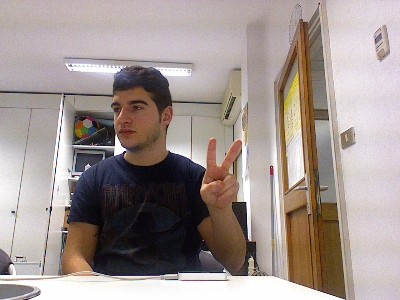剪刀: (198, 136, 243, 210)
